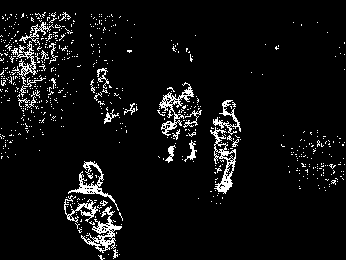person: (68, 158, 125, 260), (212, 98, 242, 198), (180, 79, 205, 167), (87, 66, 117, 132), (158, 84, 181, 166)
